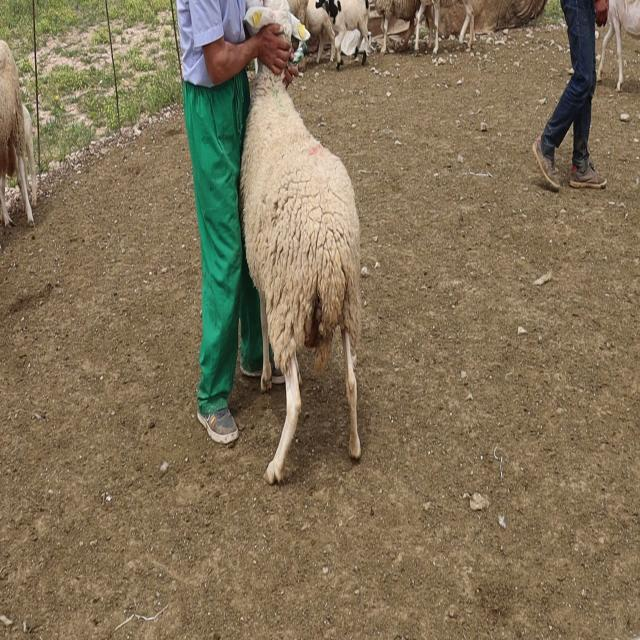Score_3: (239, 66, 361, 484)
